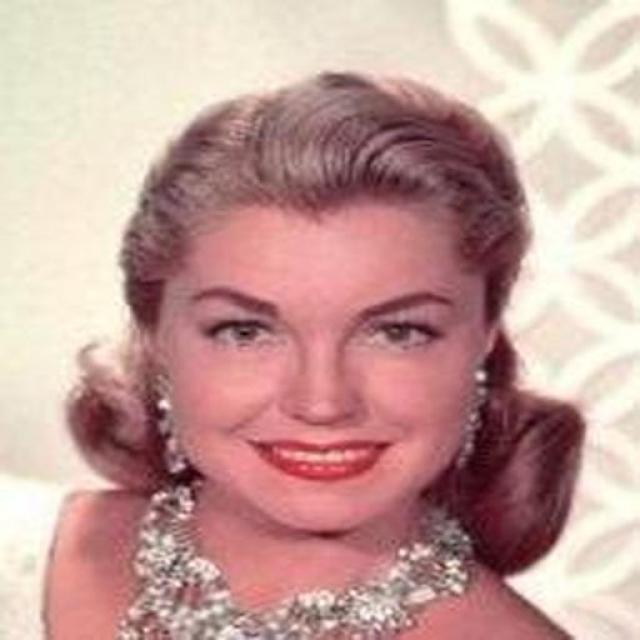bareface: (132, 175, 511, 519)
